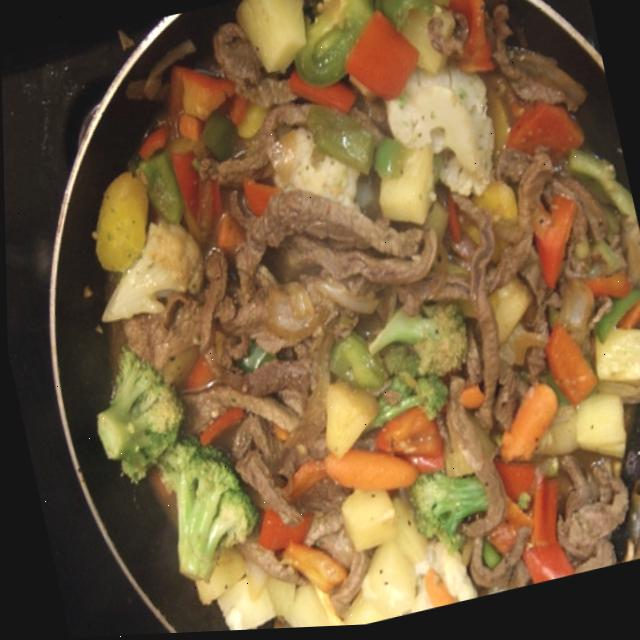蔬菜料理: (10, 0, 640, 640)
